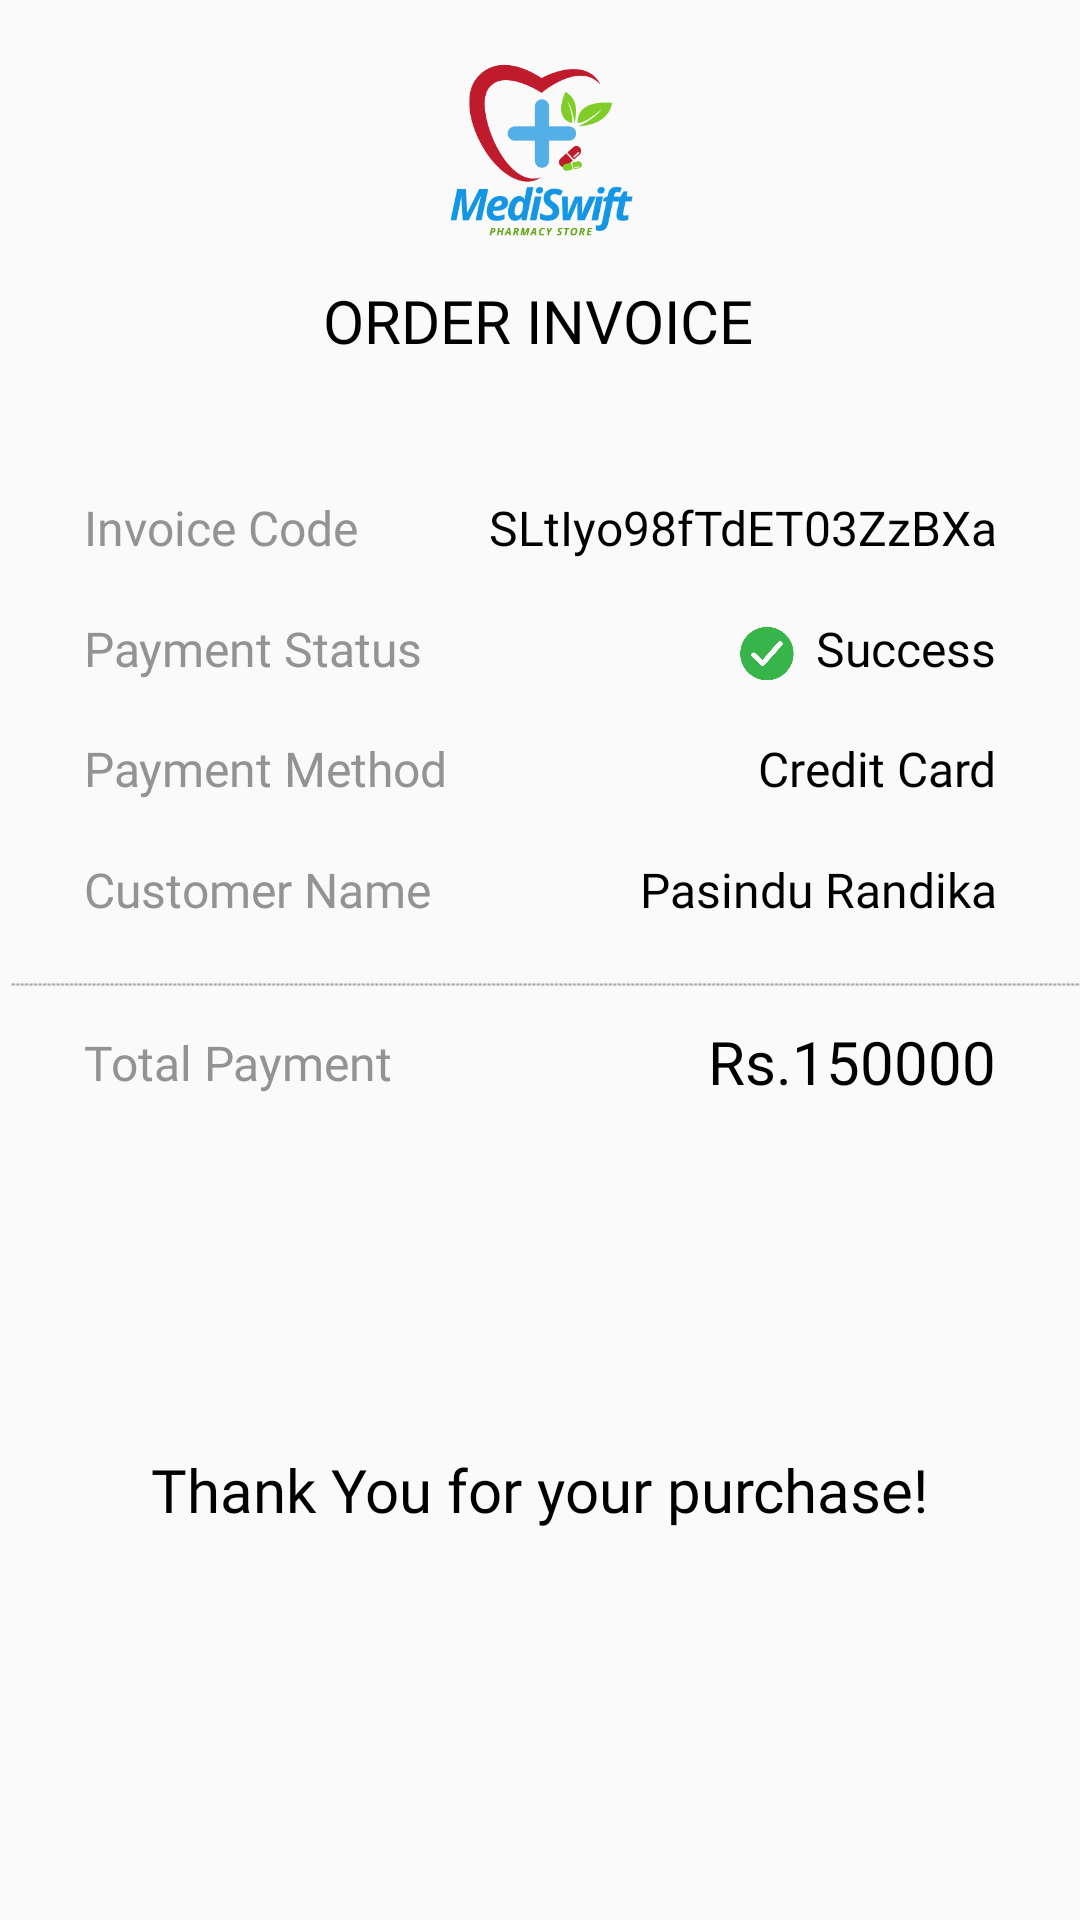

Named icons in this screenshot (1080x1920) and their centers, (x=x, y=y):
sucess: (x=767, y=653)
